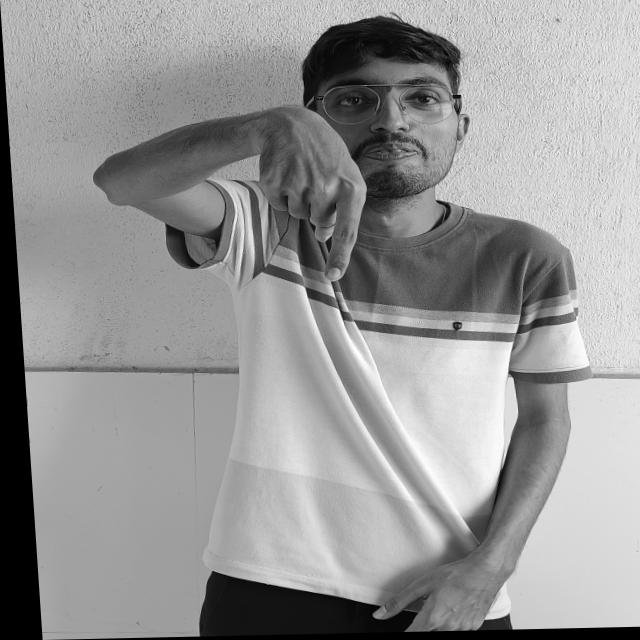Now: (214, 91, 382, 300)
